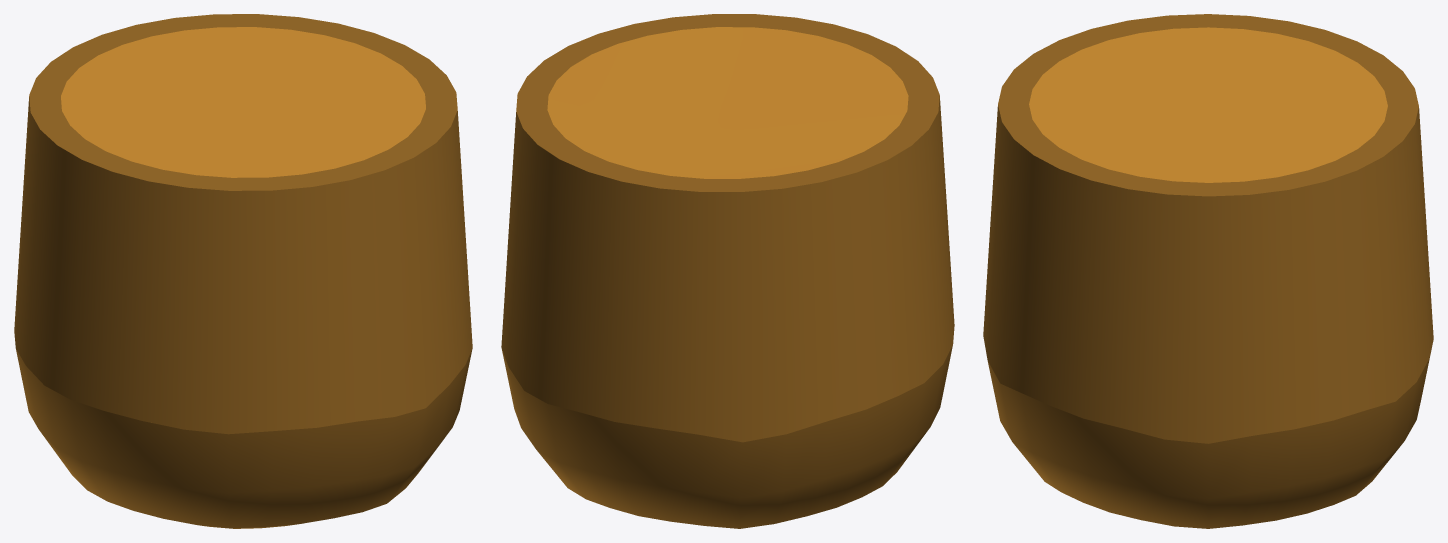
File: tree1 20%.fbx
The picture shows the model from 3 angles, left to right: view 1: azimuth 30°, elevation 25°; view 2: azimuth 150°, elevation 25°; view 3: azimuth 270°, elevation 25°; orthographic projection.
Visible parts, largest first — view 1: Cylinder.011; view 2: Cylinder.011; view 3: Cylinder.011.
Part boxes in pixels (box(x1,y1,x2,y2)): Cylinder.011: box(14, 14, 472, 528); Cylinder.011: box(501, 14, 954, 528); Cylinder.011: box(983, 14, 1433, 528).
Size of the model in its own units: 46.61 by 42.03 by 46.61.
